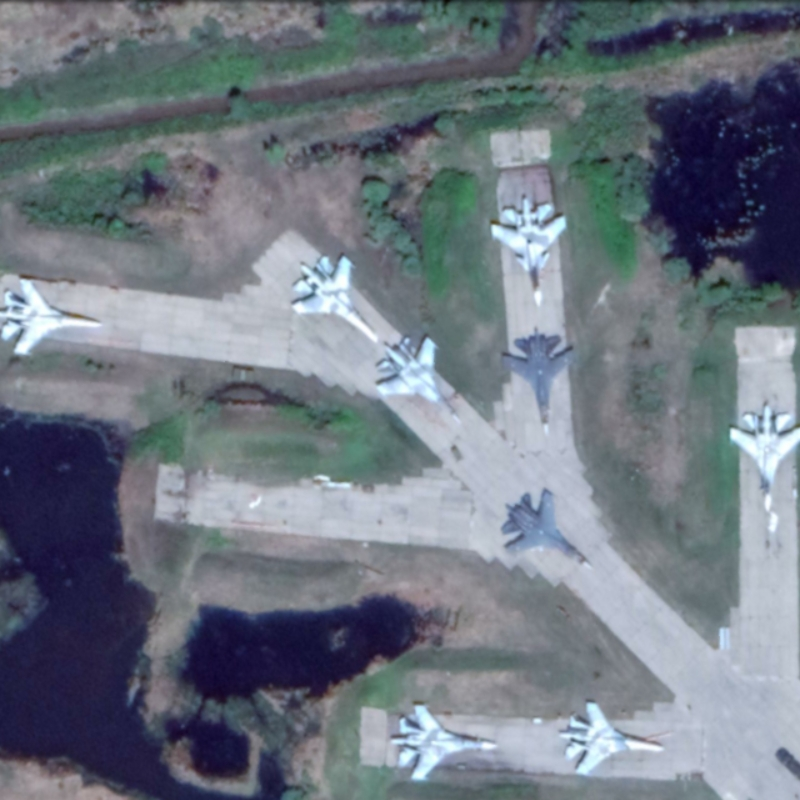A1: (496, 324, 579, 440), (386, 700, 501, 783), (372, 331, 468, 428), (496, 484, 599, 574), (287, 251, 382, 347), (554, 698, 668, 777), (725, 401, 800, 518), (1, 275, 105, 357)
A19: (488, 196, 569, 310)
